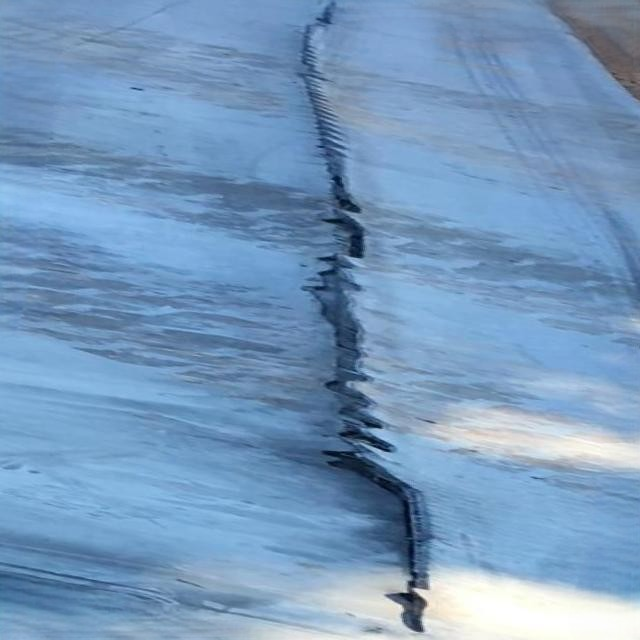Tear: (294, 0, 436, 635)
